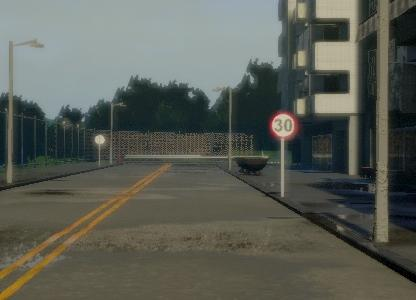Speed_30: (260, 107, 293, 137)
